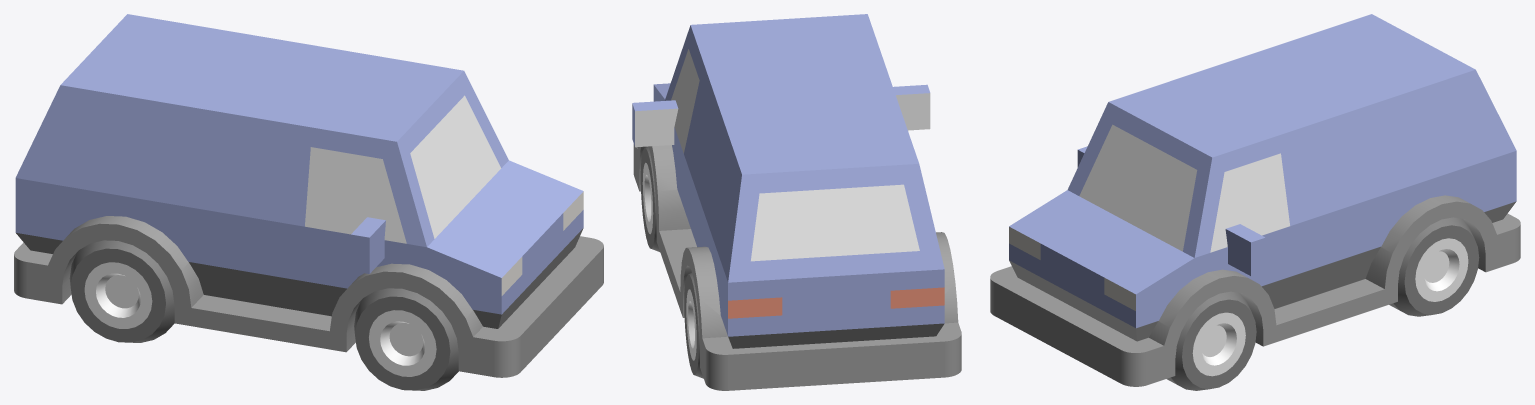
The model's file is van.glb.
3 views of the same model, side by side, from view 1: azimuth 30°, elevation 25°; view 2: azimuth 150°, elevation 25°; view 3: azimuth 270°, elevation 25° (orthographic). The views are drawn at different scales.
Parts seen in each view (by area): view 1: body, wheel_backRight, wheel_frontRight; view 2: body, wheel_frontLeft, wheel_backLeft; view 3: body, wheel_frontLeft, wheel_backLeft.
Part boxes in pixels (left/top/right/bottom): body: left=14, top=14, right=603, bottom=377; wheel_backRight: left=69, top=240, right=174, bottom=342; wheel_frontRight: left=354, top=288, right=458, bottom=390; body: left=632, top=14, right=961, bottom=390; wheel_frontLeft: left=640, top=146, right=659, bottom=251; wheel_backLeft: left=684, top=272, right=703, bottom=378; body: left=990, top=14, right=1520, bottom=386; wheel_frontLeft: left=1167, top=291, right=1256, bottom=390; wheel_backLeft: left=1389, top=217, right=1479, bottom=316.
Bounding box in the file's own units: 2.61 × 1.3 × 2.84.
